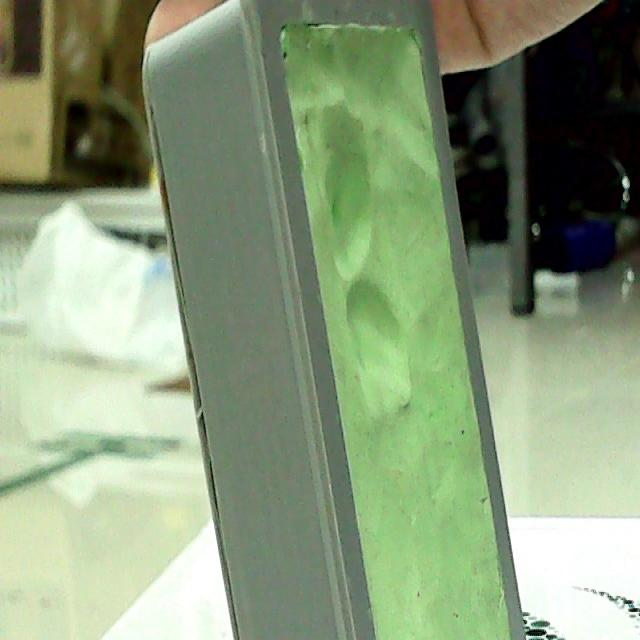block: (102, 0, 536, 637)
